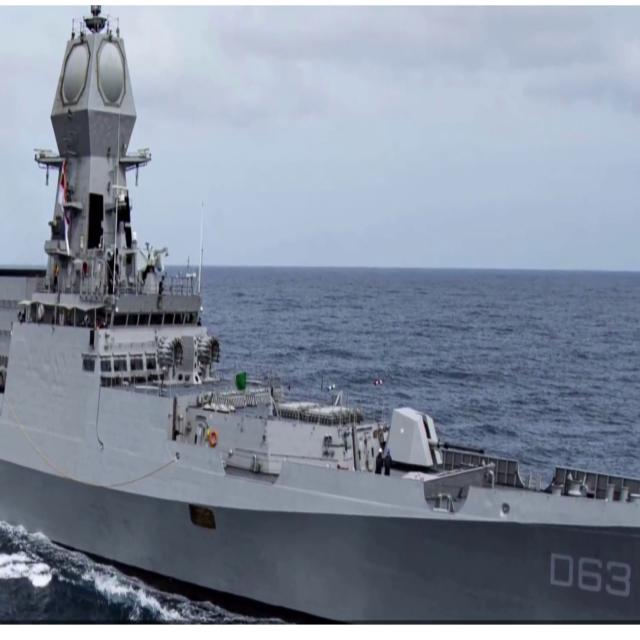OCR: (545, 546, 632, 602)
